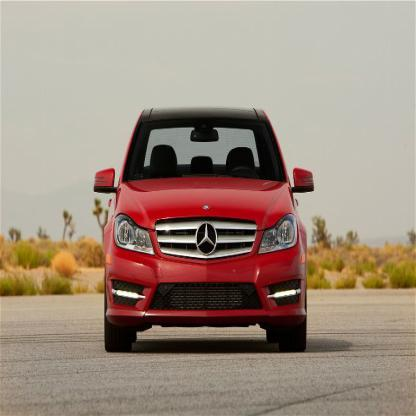Vehicle: (87, 85, 332, 378)
